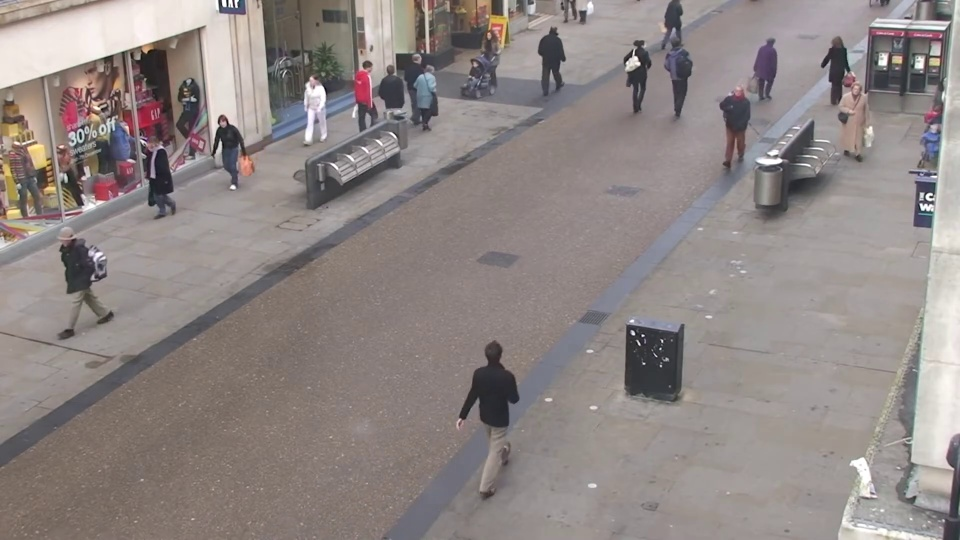pedestrian: (481, 322, 529, 471), (35, 224, 92, 346), (130, 135, 172, 234), (202, 114, 240, 207), (836, 79, 873, 168), (717, 82, 748, 169), (295, 75, 326, 158), (818, 34, 851, 111), (421, 59, 450, 139), (381, 58, 410, 137), (361, 57, 389, 135), (758, 33, 787, 107), (457, 56, 484, 135), (408, 50, 435, 127), (474, 30, 500, 102), (666, 33, 691, 106), (630, 35, 654, 108), (546, 20, 570, 89)
